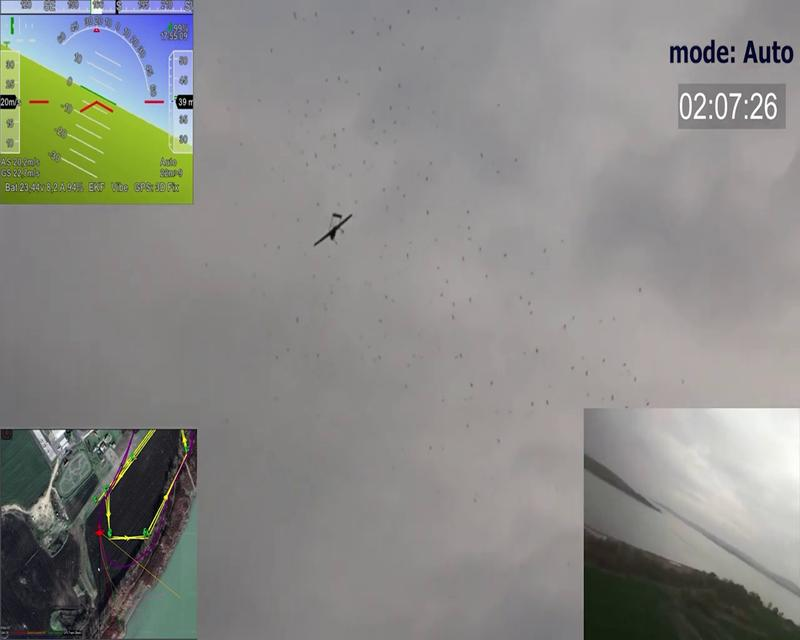UAV: (0, 0, 195, 204), (311, 211, 354, 247)
